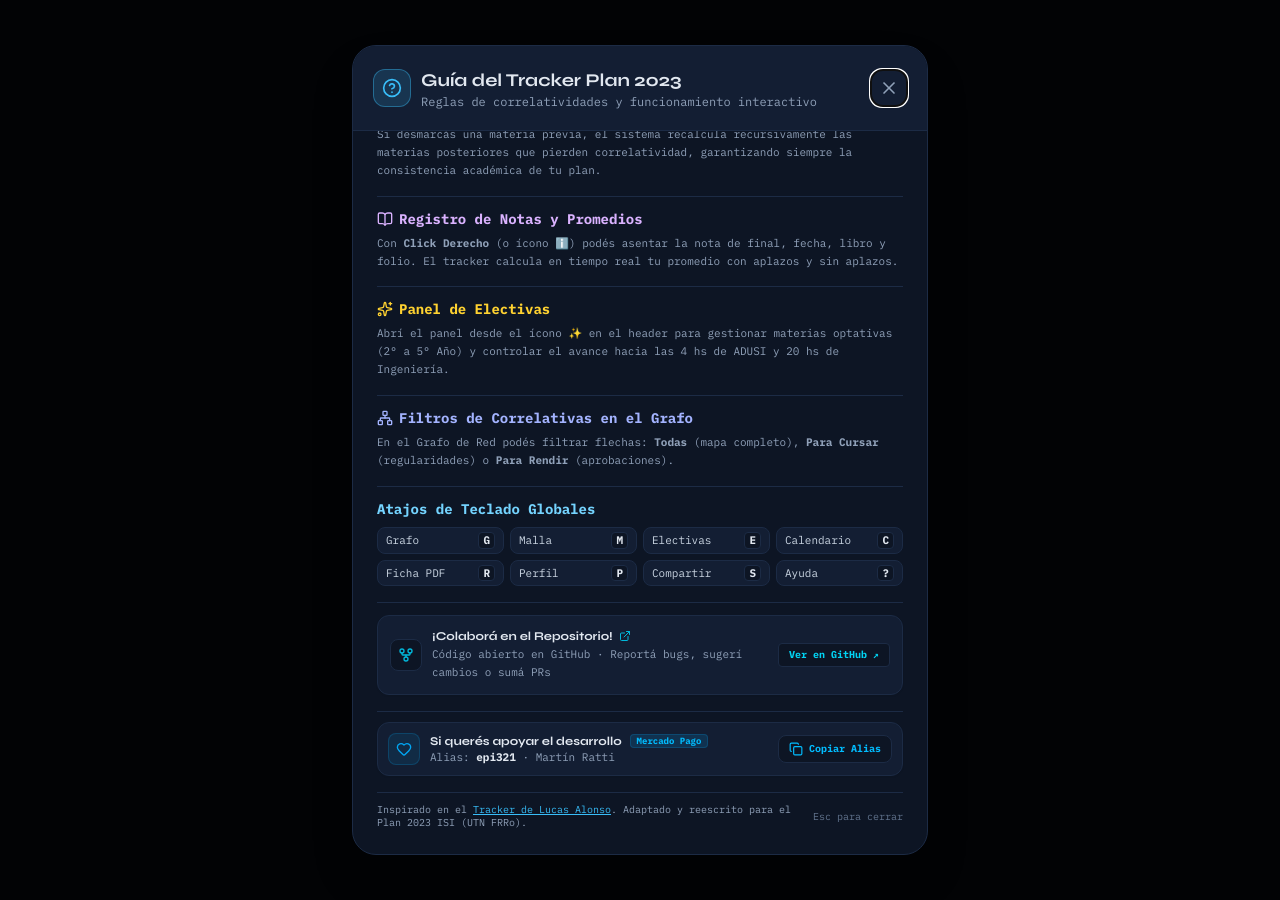
it: Componentes Modales › HelpModal › debe mostrar la sección de donación y permitir copiar el alias de Mercado Pago
(page scrolled)
Expected: the text "Si querés apoyar el desarrollo" is shown, [430,733,622,749]
Expected: the text "epi321" is shown, [476,750,516,764]
Click the button with aria-label "Copiar alias de Mercado Pago". click: (835, 749)
box: [778,735,892,763]
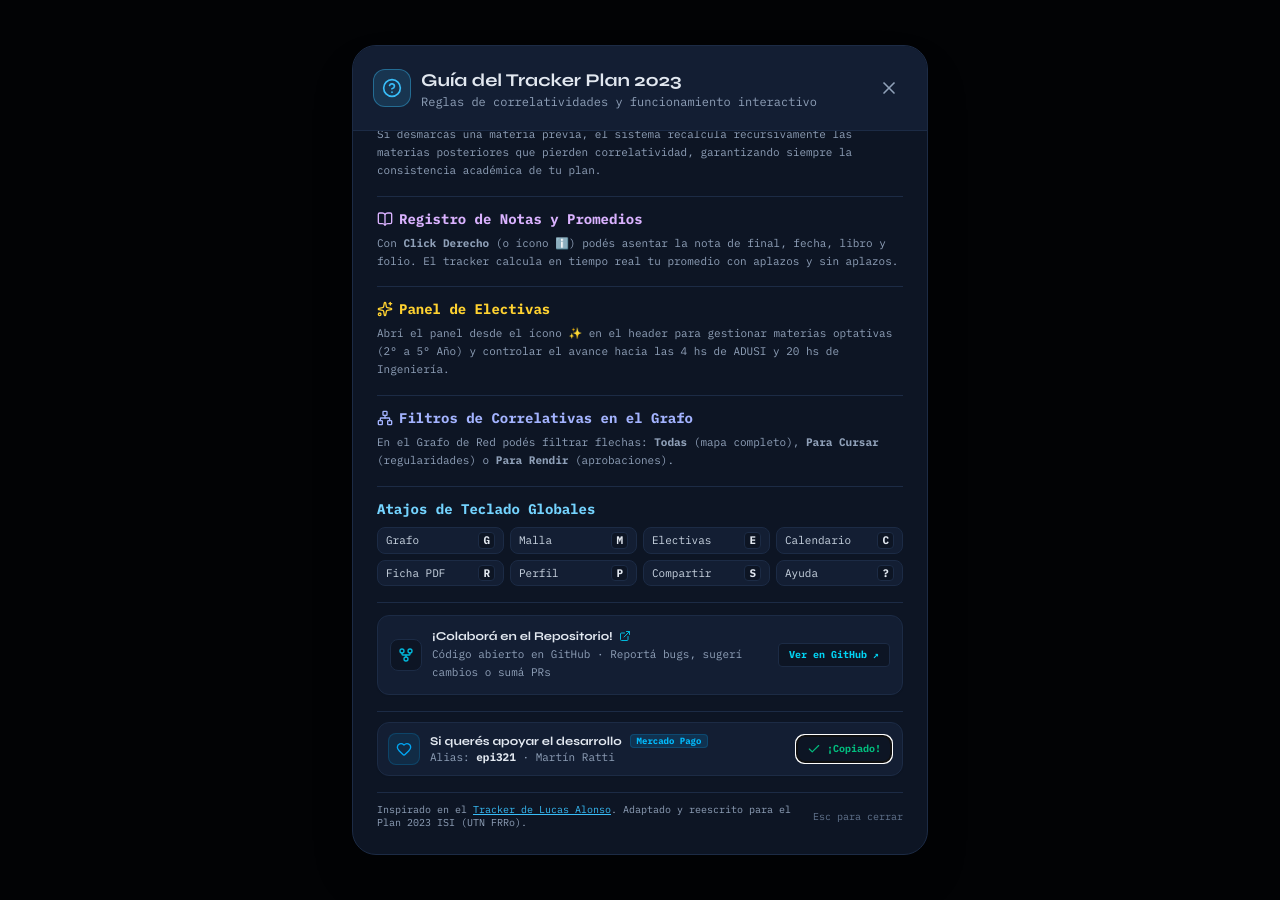
Now the text "¡Copiado!" is shown, box [827,742,881,756]
